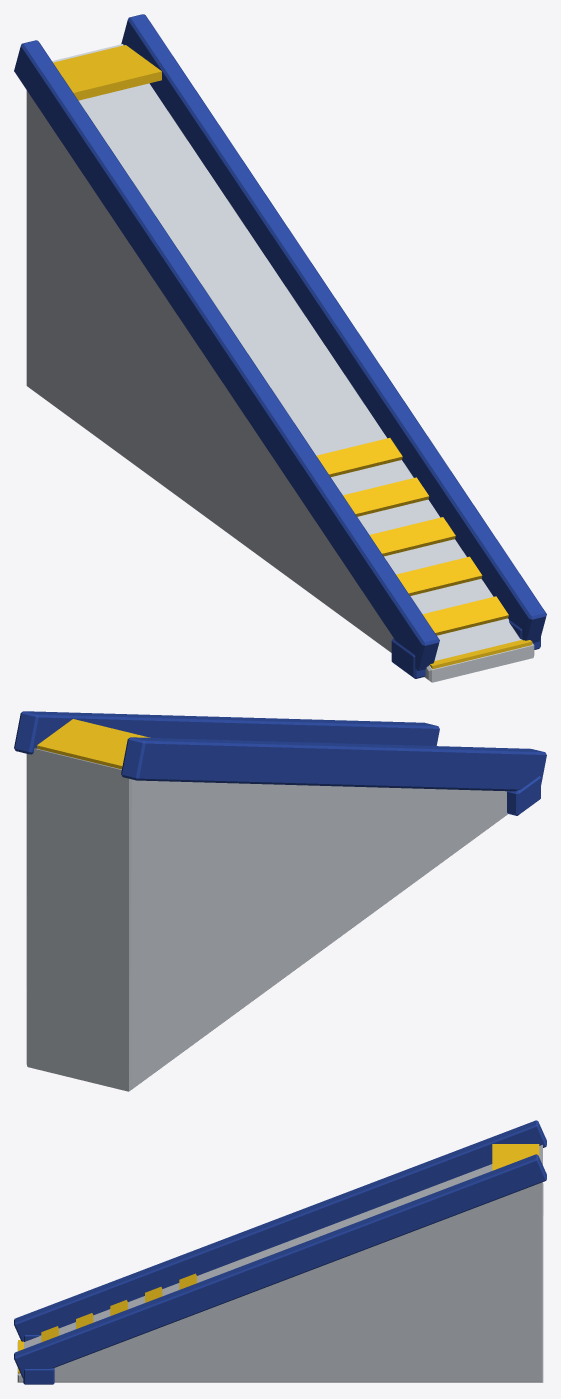
File: ramp_to_train.obj
The picture shows the model from 3 angles, top to bottom: view 1: azimuth 30°, elevation 25°; view 2: azimuth 150°, elevation 25°; view 3: azimuth 270°, elevation 25°; orthographic projection. The views are drawn at different scales.
Visible parts, largest first — view 1: ramp_body, rail_l, rail_r, top_plate, hazard_2, hazard_3, hazard_4, hazard_0, hazard_1, deck_edge; view 2: ramp_body, rail_l, rail_r, top_plate, kick_l; view 3: ramp_body, rail_r, rail_l, top_plate, kick_r.
Boxes of the visible parts, x1=… form: ramp_body: x1=26, y1=44, x2=534, y2=682; rail_l: x1=14, y1=40, x2=439, y2=670; rail_r: x1=121, y1=14, x2=546, y2=642; top_plate: x1=53, y1=45, x2=161, y2=100; hazard_2: x1=369, y1=517, x2=455, y2=556; hazard_3: x1=343, y1=477, x2=429, y2=516; hazard_4: x1=316, y1=438, x2=402, y2=476; hazard_0: x1=422, y1=596, x2=508, y2=635; hazard_1: x1=396, y1=556, x2=482, y2=595; deck_edge: x1=429, y1=639, x2=532, y2=669; ramp_body: x1=26, y1=748, x2=507, y2=1091; rail_l: x1=121, y1=737, x2=546, y2=791; rail_r: x1=14, y1=711, x2=439, y2=754; top_plate: x1=37, y1=719, x2=150, y2=769; kick_l: x1=507, y1=776, x2=540, y2=815; ramp_body: x1=17, y1=1145, x2=543, y2=1382; rail_r: x1=14, y1=1154, x2=546, y2=1378; rail_l: x1=14, y1=1120, x2=546, y2=1341; top_plate: x1=492, y1=1144, x2=539, y2=1170; kick_r: x1=23, y1=1368, x2=54, y2=1384.
Size of the model in its own units: 1.8 by 4.7 by 10.
